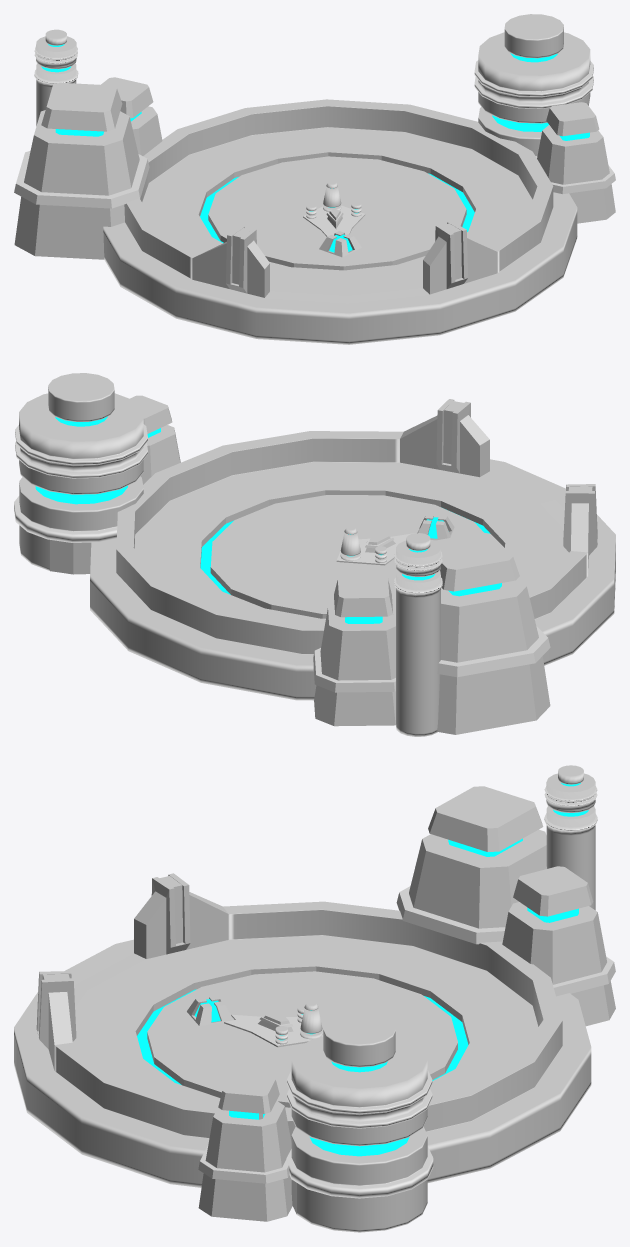
Rendered from 3DModel_Skyforger_Outpost.fbx.
3 renders of one model, top to bottom at view 1: azimuth 30°, elevation 25°; view 2: azimuth 150°, elevation 25°; view 3: azimuth 270°, elevation 25°, orthographic. The views are drawn at different scales.
Parts seen in each view (by area): view 1: SFO3; view 2: SFO3; view 3: SFO3.
Part boxes in pixels (box(x1,y1,x2,y2)): SFO3: box(14, 14, 615, 344); SFO3: box(14, 373, 615, 736); SFO3: box(14, 765, 615, 1232).
Size of the model in its own units: 308 by 96.73 by 257.
